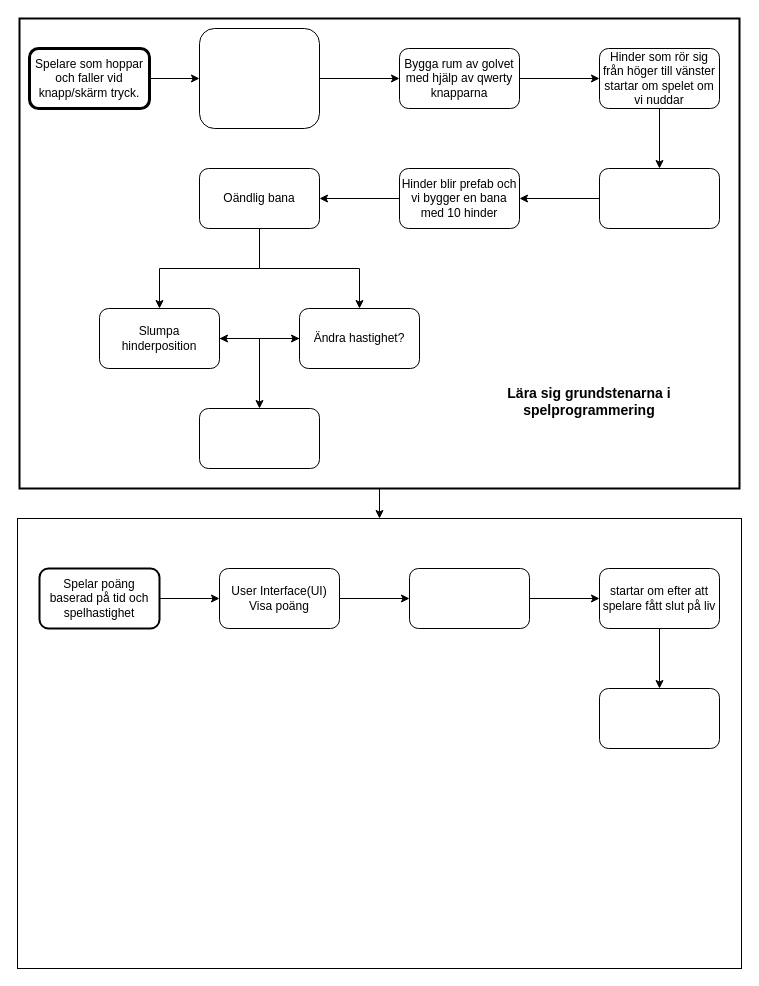
This 759x986 diagram has some shape labels left out. Here are the shapes that lost their labels. From the top down, the box of each, then its label:
(198, 28, 320, 128): Ett golv som ska avsluta och starta om spelet
(598, 168, 720, 228): Hinder ska vara framerate oberoende
(198, 408, 320, 468): Oscillerande hinder
(408, 568, 530, 628): Spelare får liv
(598, 688, 720, 748): Visa antal liv i UI m.h.a. delegate
